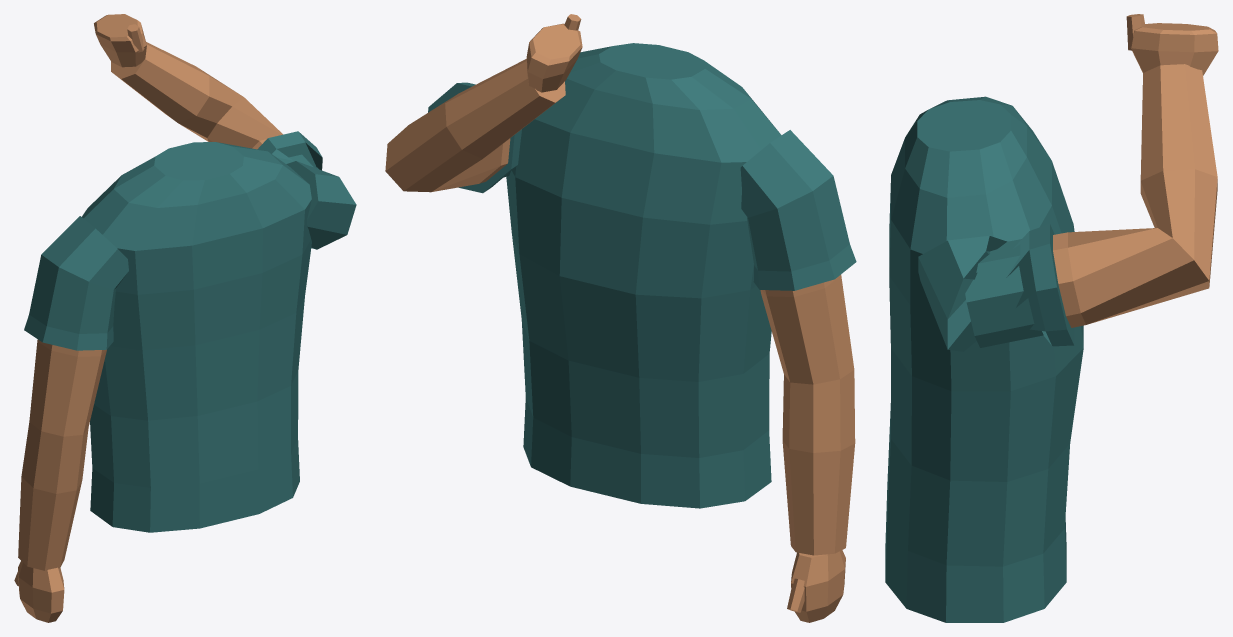
Rendered from lwf_singer_male_kit_v2.glb.
3 views of the same model, side by side, from view 1: azimuth 30°, elevation 25°; view 2: azimuth 150°, elevation 25°; view 3: azimuth 270°, elevation 25° (orthographic). The views are drawn at different scales.
Visible parts, largest first — view 1: LWF_Singer_RightPlayingArm, LWF_Singer_LeftPlayingArm; view 2: LWF_Singer_RightPlayingArm, LWF_Singer_LeftPlayingArm; view 3: LWF_Singer_RightPlayingArm.
Part boxes in pixels (box(x1,y1,x2,y2)): LWF_Singer_RightPlayingArm: box(82, 14, 356, 532); LWF_Singer_LeftPlayingArm: box(14, 216, 128, 622); LWF_Singer_RightPlayingArm: box(385, 14, 781, 508); LWF_Singer_LeftPlayingArm: box(740, 130, 856, 622); LWF_Singer_RightPlayingArm: box(885, 14, 1218, 622).
Size of the model in its own units: 0.5075 by 0.7671 by 0.3508.
1 material, 1 textured.
